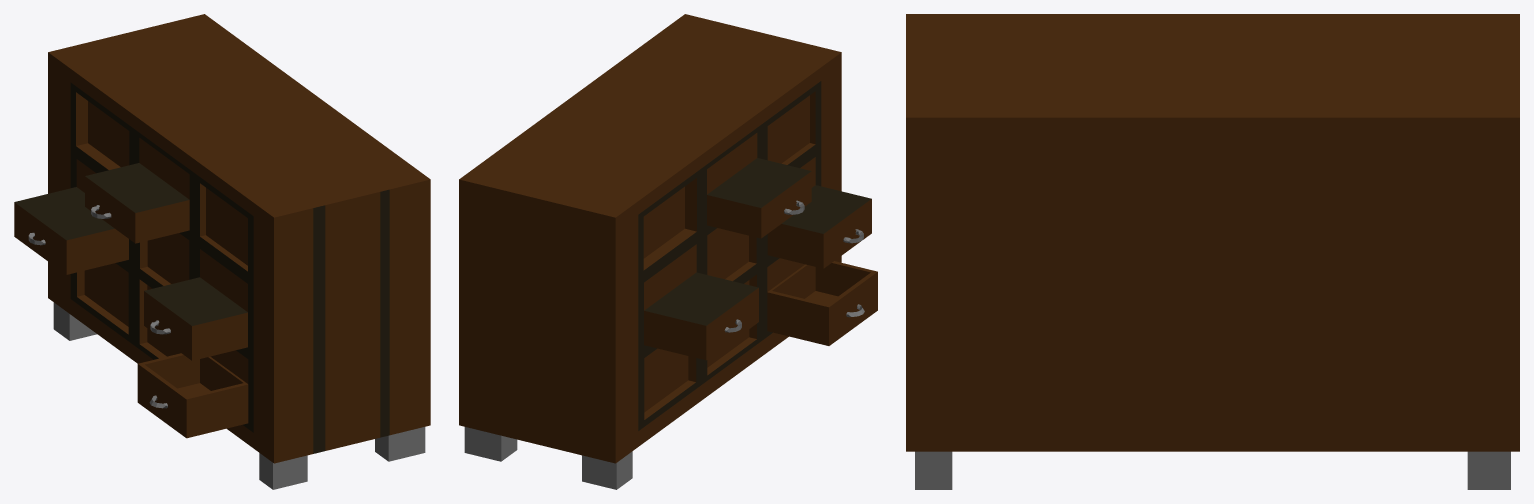
The model's file is dressermore.fbx.
3 renders of one model, left to right at view 1: azimuth 30°, elevation 25°; view 2: azimuth 150°, elevation 25°; view 3: azimuth 270°, elevation 25°, orthographic. The views are drawn at different scales.
Visible parts, largest first — view 1: Cube.015; view 2: Cube.015; view 3: Cube.015.
Boxes of the visible parts, bbox=[...] form: Cube.015: bbox=[14, 14, 430, 489]; Cube.015: bbox=[459, 14, 877, 489]; Cube.015: bbox=[906, 14, 1519, 489].
Size of the model in its own units: 292 by 336 by 500.
